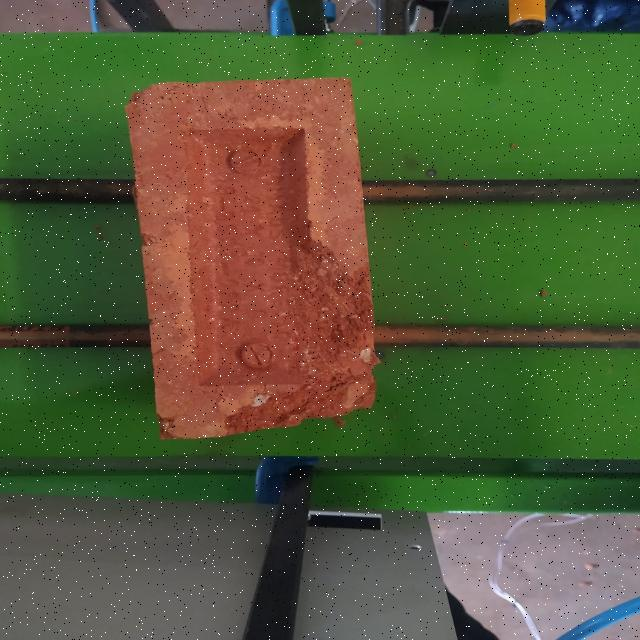bricks_ruin: (125, 72, 375, 441)
